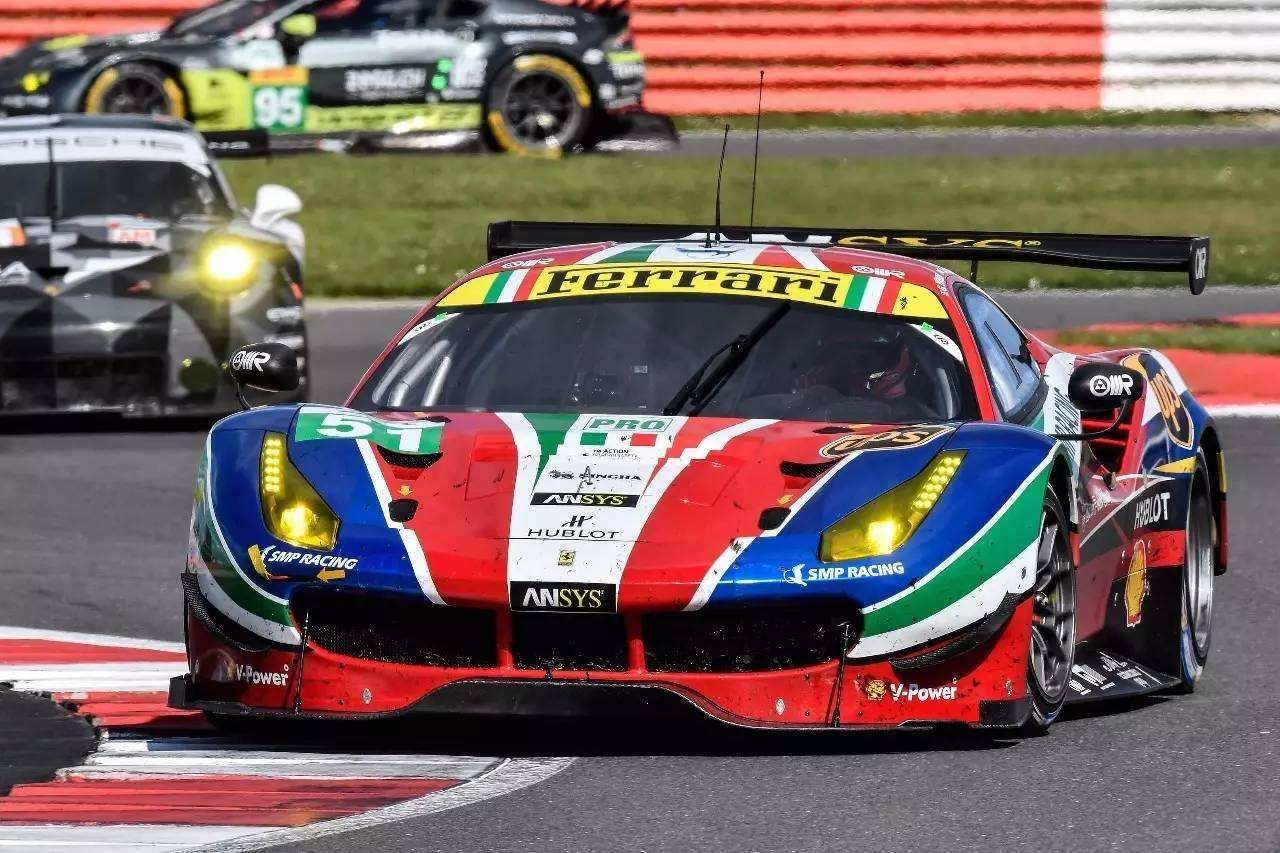racing car: (195, 226, 1215, 738), (18, 10, 672, 165), (1, 107, 301, 416)
